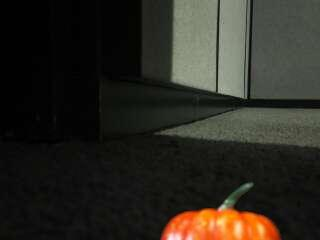Pumpkin: (158, 178, 282, 240)
